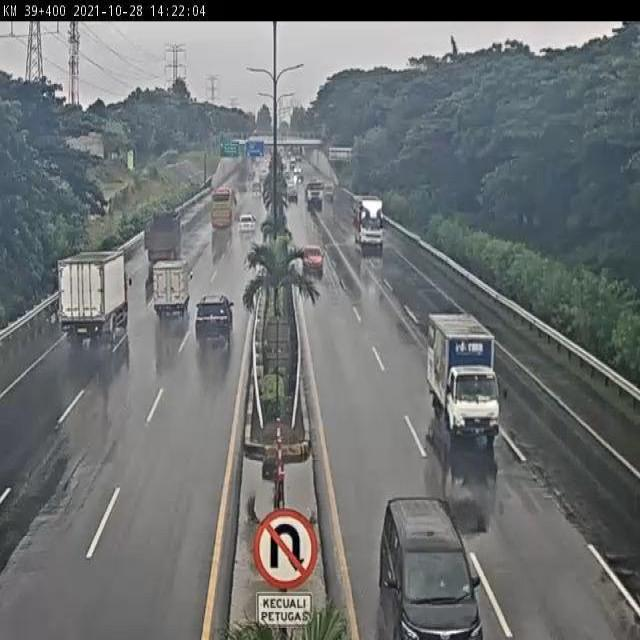big bus: (207, 185, 237, 228)
car: (376, 486, 482, 640), (192, 293, 235, 344), (300, 244, 326, 275), (235, 213, 258, 239)
truck-l-: (351, 196, 389, 255), (142, 211, 183, 265)
truck-s-: (428, 310, 498, 442), (148, 258, 193, 318)
truck-xl-: (59, 249, 131, 343)
